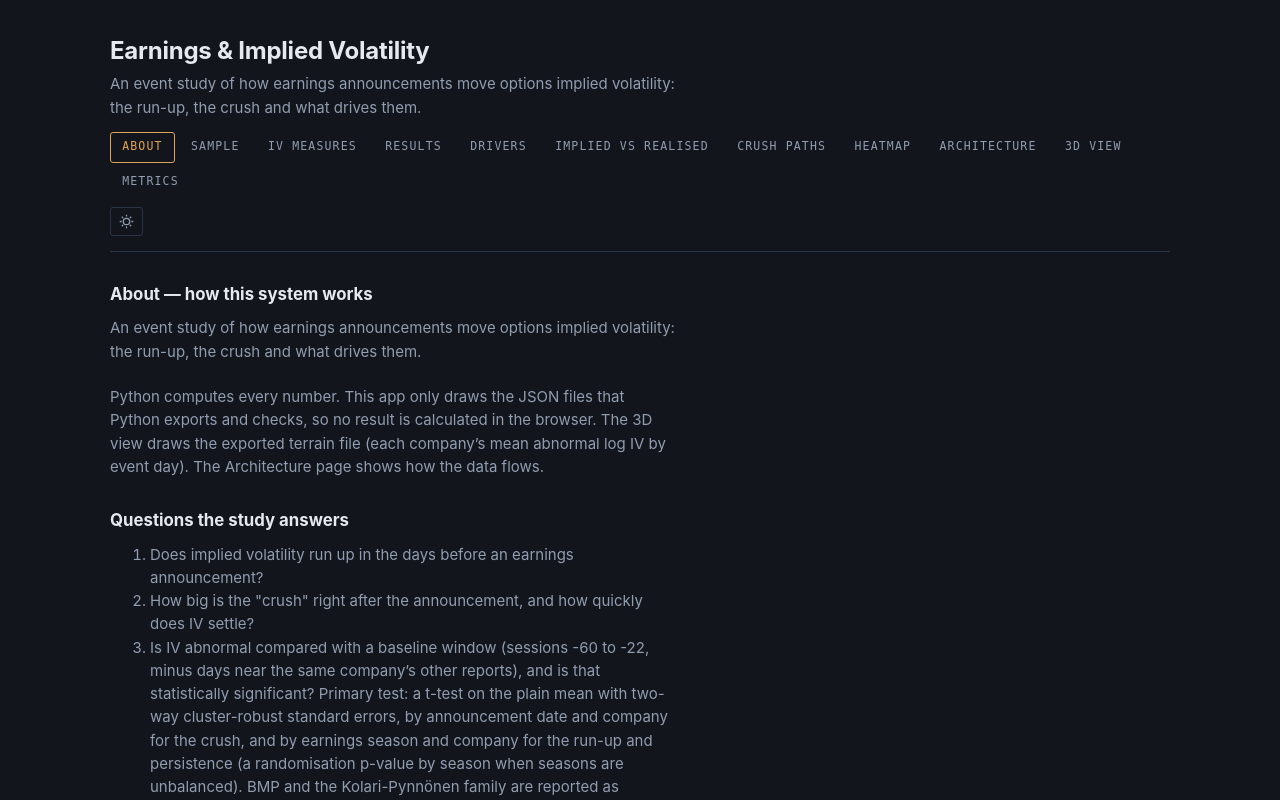
Test: App (integration) › has a Sample page, after About, that draws sample_funnel.json (the fixture here)
Click the link "Sample".
click(215, 146)  # box top-left (191, 139), bottom-right (240, 153)
(page scrolled)
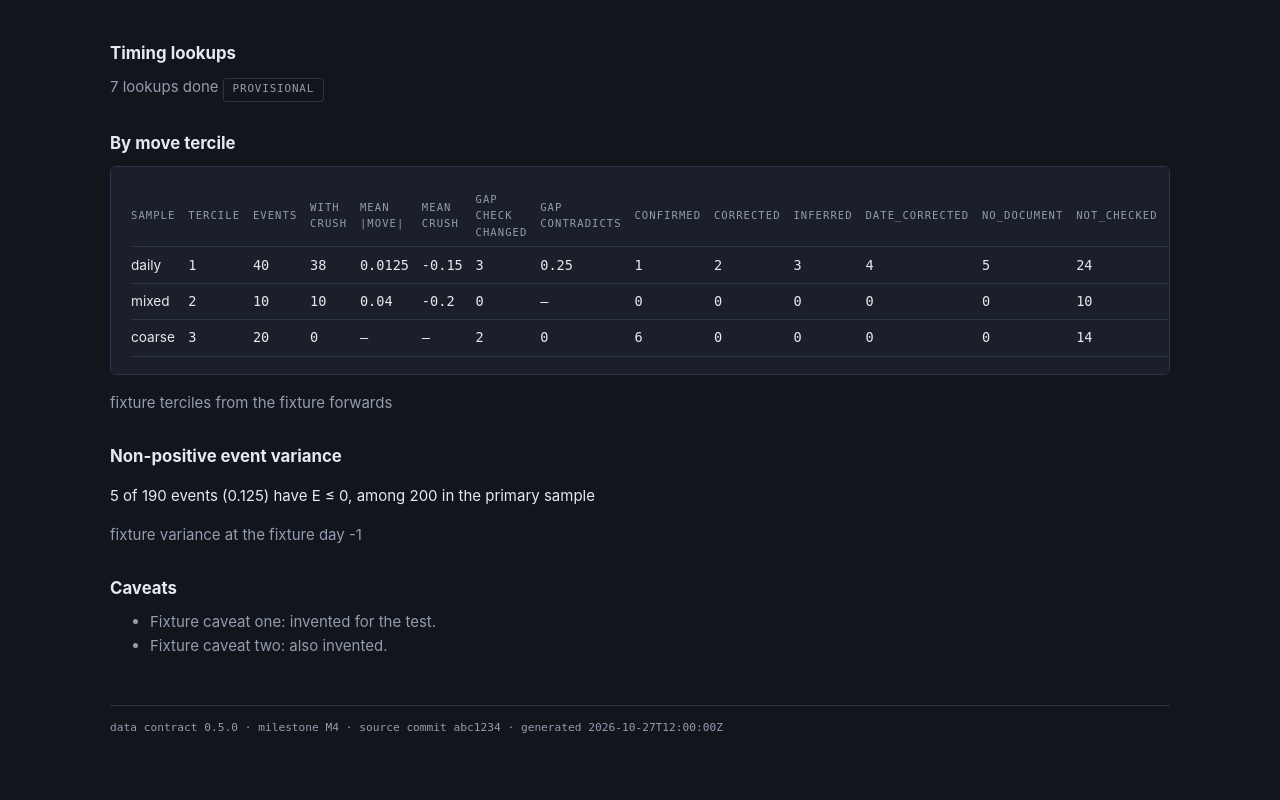
Expected: the list item "Fixture caveat one: invented for the test." is shown, top-left (150, 612), bottom-right (436, 631)
Expected: the list item "Fixture caveat two: also invented." is shown, top-left (150, 636), bottom-right (388, 654)
Expected: the text "source commit abc1234" is shown, top-left (110, 721), bottom-right (723, 734)
